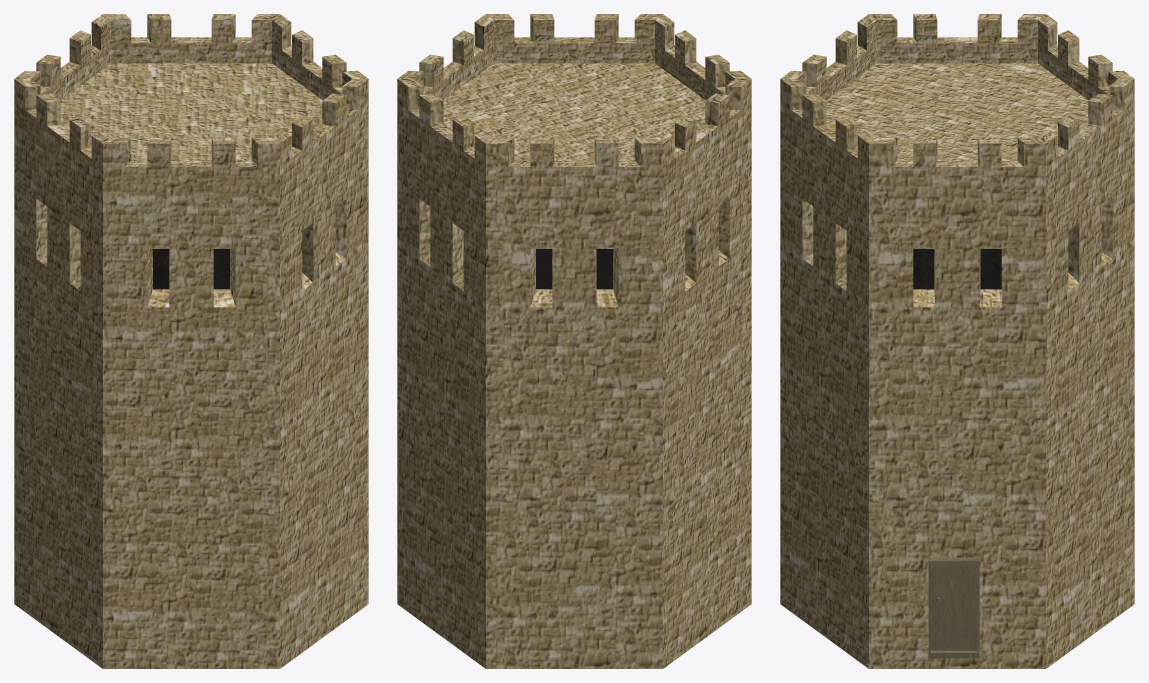
Rendered from ancient_tower.glb.
The picture shows the model from 3 angles, left to right: view 1: azimuth 30°, elevation 25°; view 2: azimuth 150°, elevation 25°; view 3: azimuth 270°, elevation 25°; orthographic projection.
Visible parts, largest first — view 1: Object_4; view 2: Object_4; view 3: Object_4.
Boxes of the visible parts, x1,y1,x2,y2 form: Object_4: (14,14,368,668); Object_4: (397,14,751,668); Object_4: (780,14,1134,668).
Bounding box in the file's own units: 2.11 × 3.89 × 2.38.
1 material, 1 textured.
